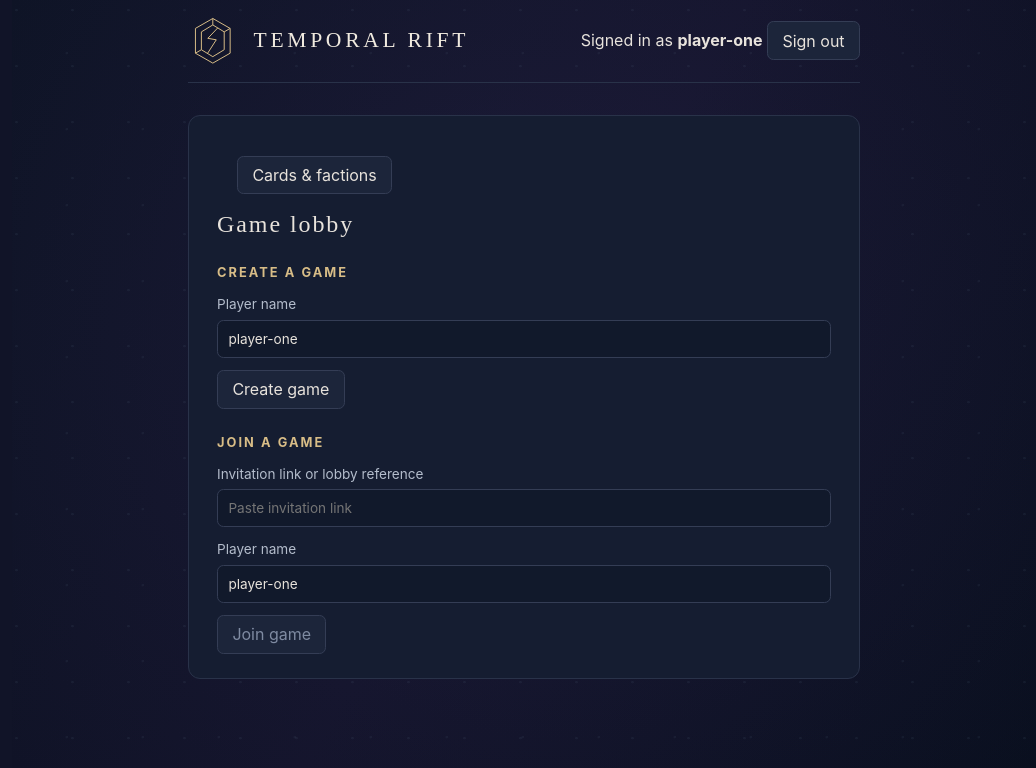
Test case: App › restores an authenticated session and signs out through the SDK
Expected: the heading "Temporal Rift" is shown, [254, 29, 469, 53]
Expected: the element named "Current player session" shows "player-one", [678, 31, 762, 51]
Click the button "Sign out": (814, 41) [767, 21, 860, 60]
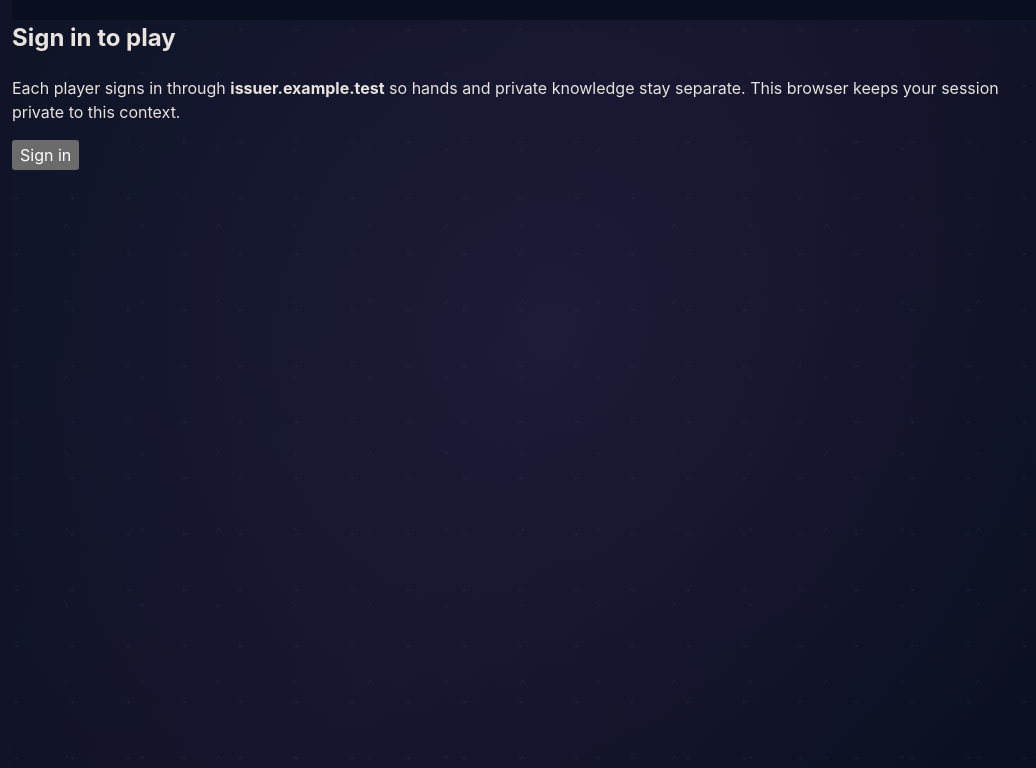
Now the heading "Sign in to play" is shown, box [12, 23, 176, 52]
Now the heading "Temporal Rift" is gone
